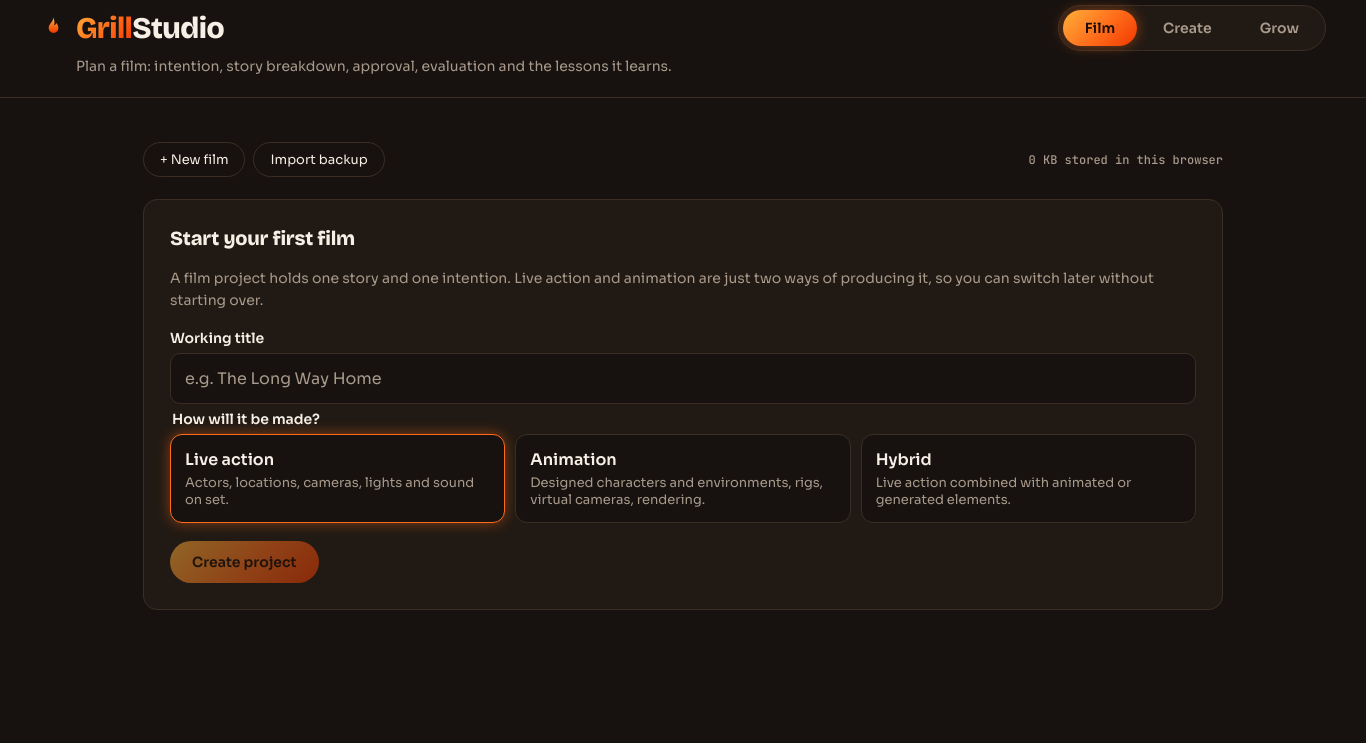
Scenario: film workspace journey › refuses an evaluation score without evidence and explains why
Step 1. Type "Eval" into the field labelled "Working title" → (683, 379), box 170,353 -> 1196,404
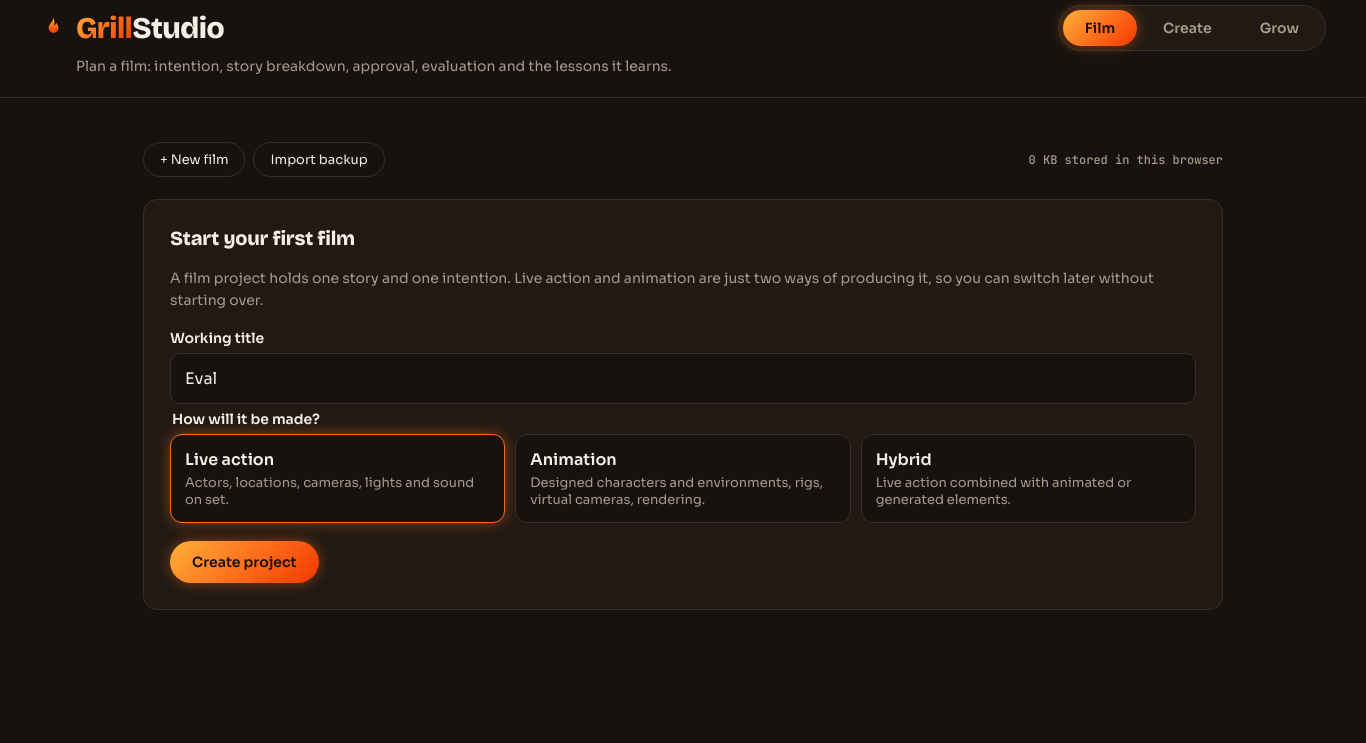
Step 2. Click the button "Create project" → (244, 562), box 170,541 -> 319,583
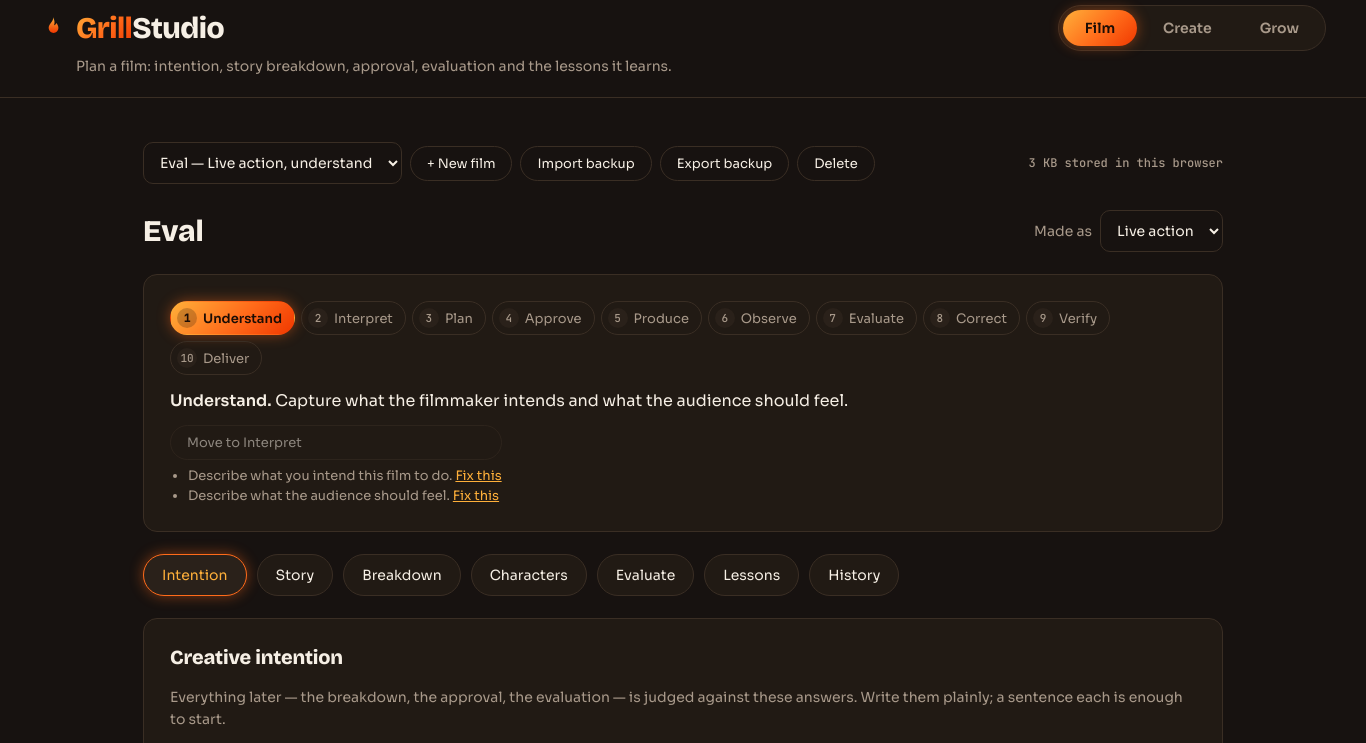
Step 3. Click the tab "Evaluate" → (645, 575), box 597,554 -> 694,596
(page scrolled)
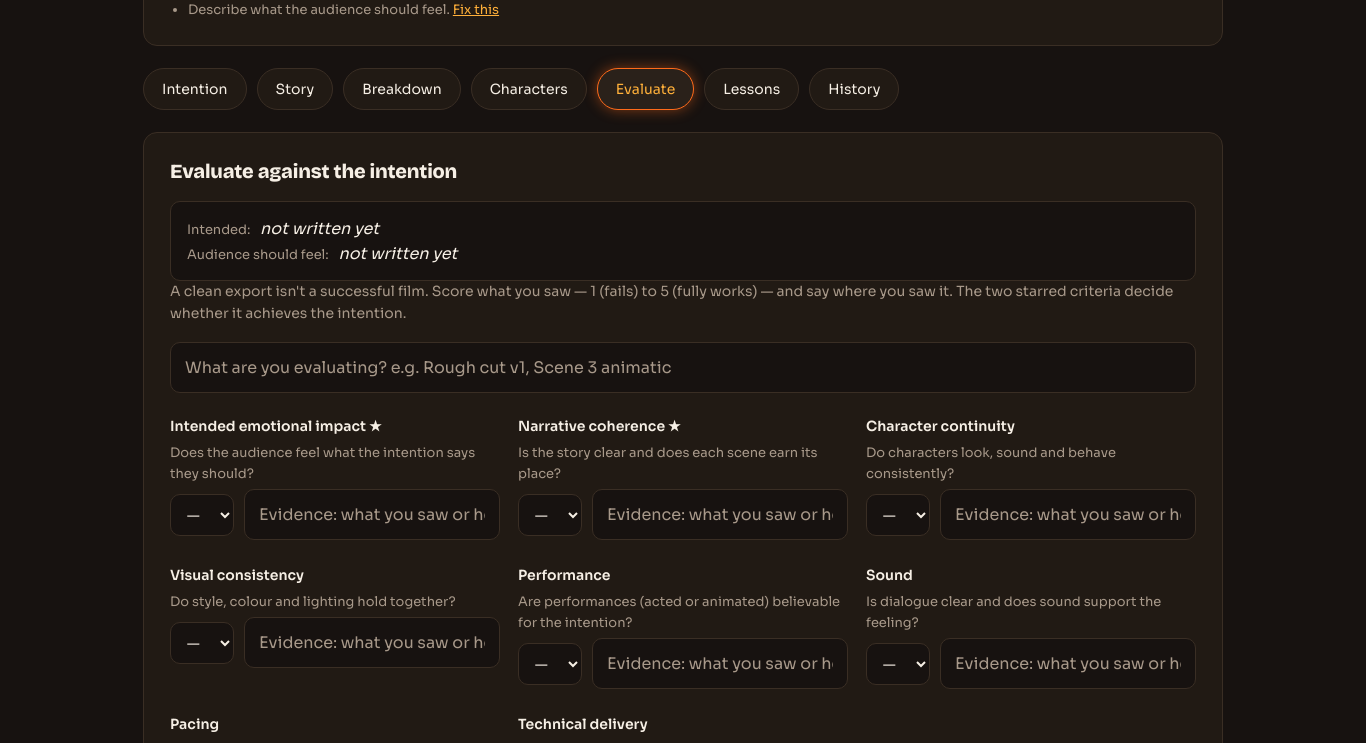
Step 4. Type "Cut 1" into the field named "What is being evaluated" → (683, 368), box 170,342 -> 1196,393
(page scrolled)
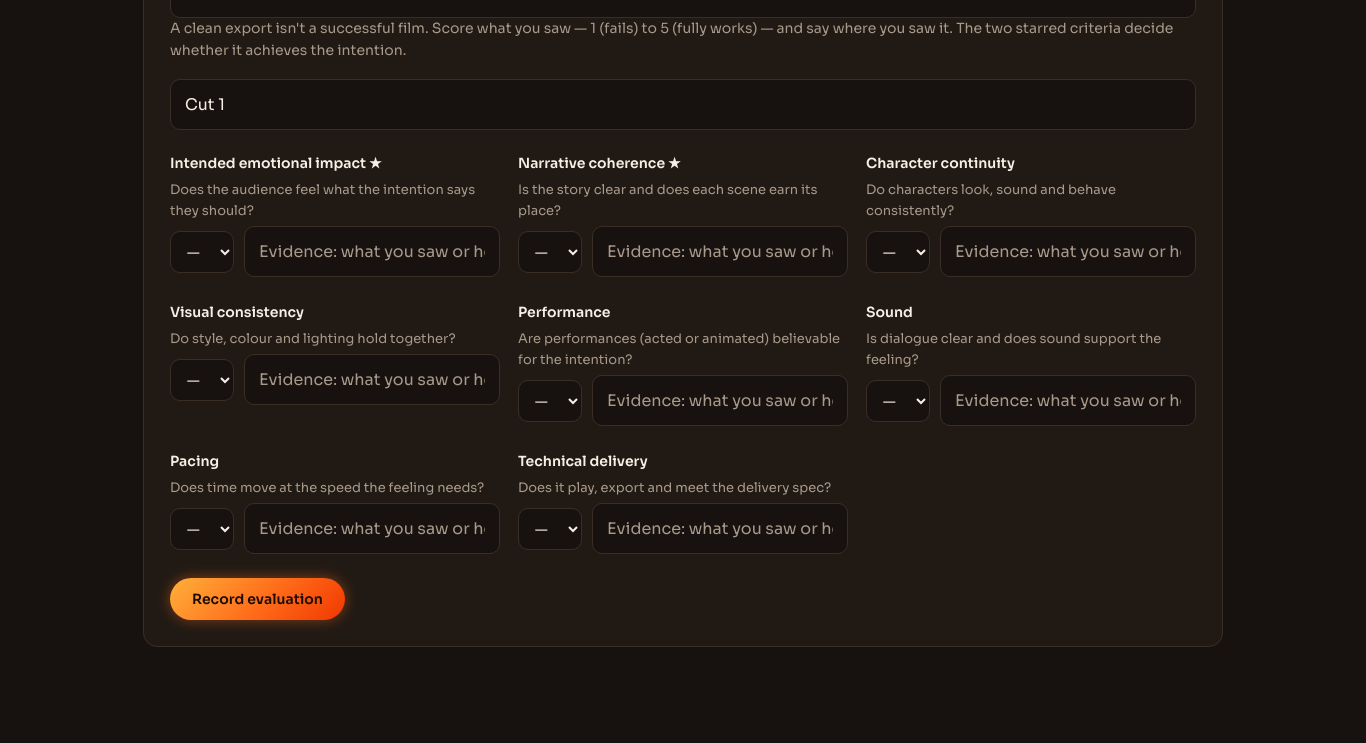
Step 5. Select "3" in the dropdown labelled "Pacing" → (202, 529), box 170,508 -> 234,550
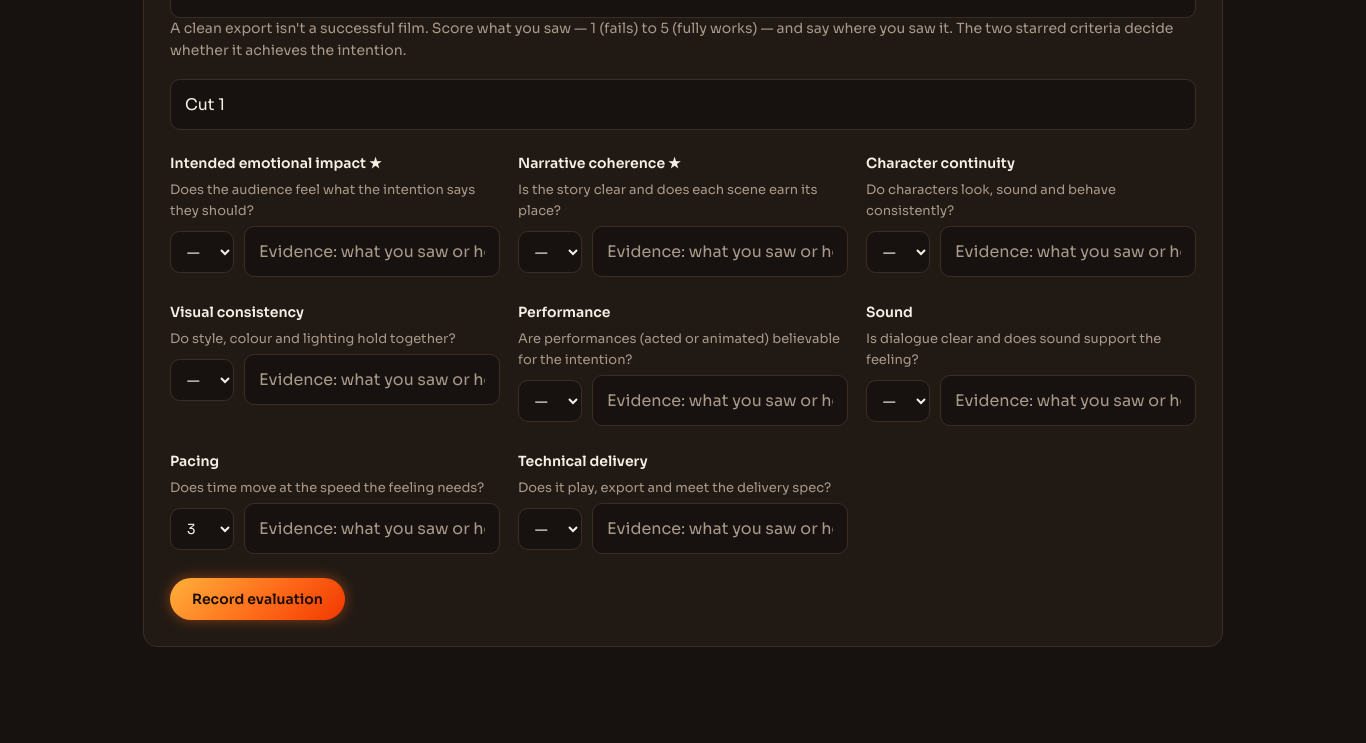
Step 6. Click the button "Record evaluation" → (257, 599), box 170,578 -> 345,620
(page scrolled)
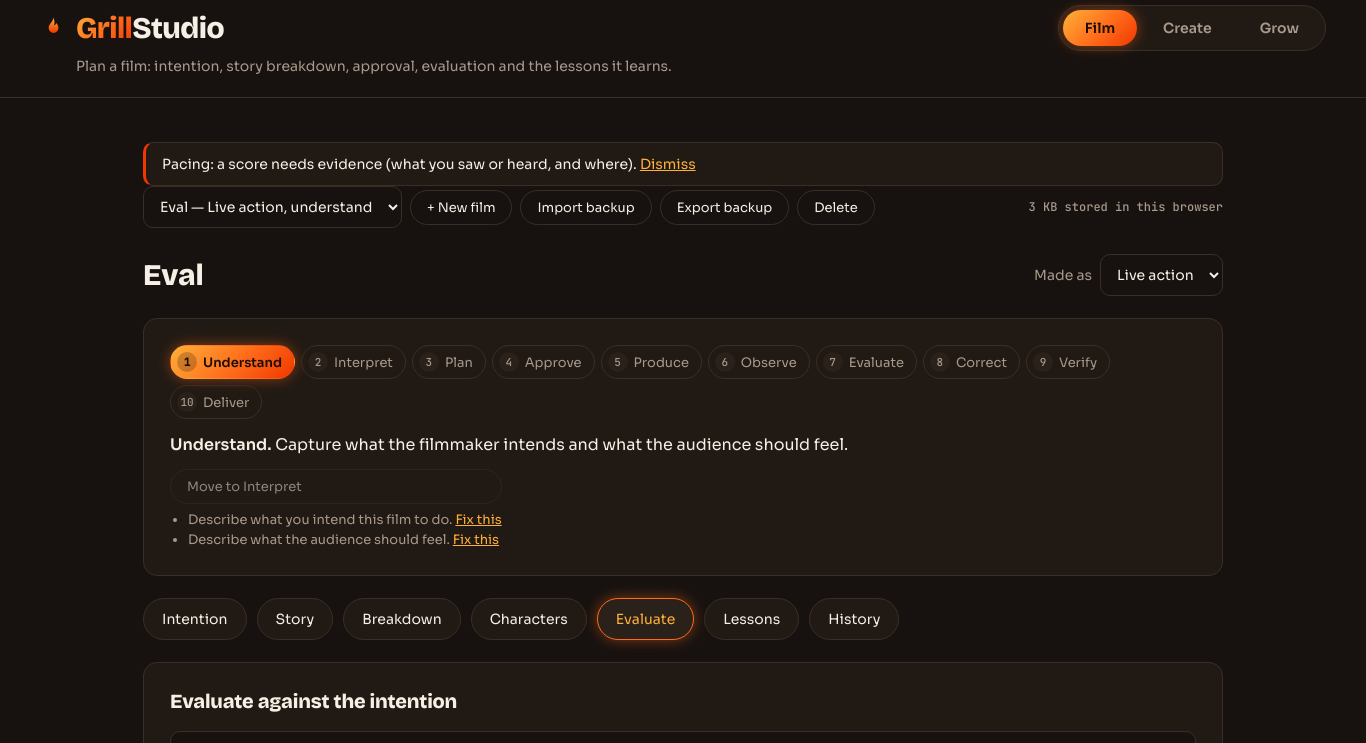
Check: the message shows "needs evidence", box 162,155 -> 637,173
